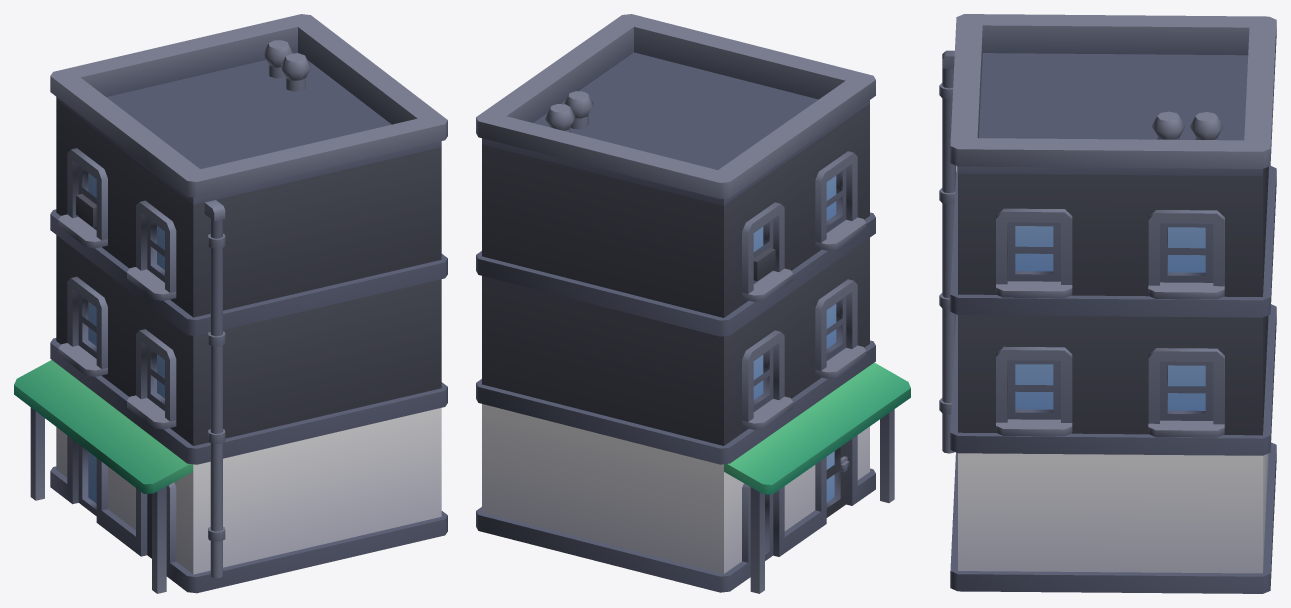
Rendered from building-h.003_lev1.glb.
3 renders of one model, left to right at view 1: azimuth 30°, elevation 25°; view 2: azimuth 150°, elevation 25°; view 3: azimuth 270°, elevation 25°, orthographic. The views are drawn at different scales.
Parts seen in each view (by area): view 1: building-h.003_lev1; view 2: building-h.003_lev1; view 3: building-h.003_lev1.
Boxes of the visible parts, <box> form: building-h.003_lev1: <box>14,14,447,593</box>; building-h.003_lev1: <box>476,14,910,593</box>; building-h.003_lev1: <box>939,14,1276,593</box>.
Size of the model in its own units: 4.08 by 5.17 by 3.54.
Materials: 1 (1 with a texture image).
